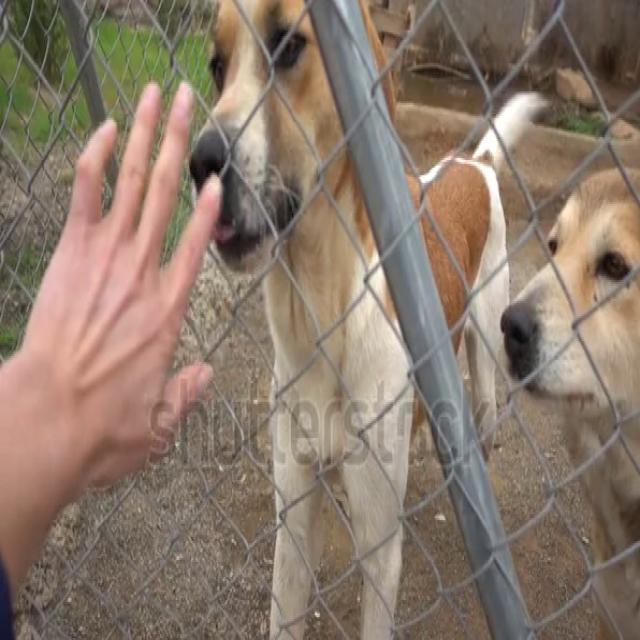normal_animals: (184, 0, 538, 638), (504, 135, 640, 479)
